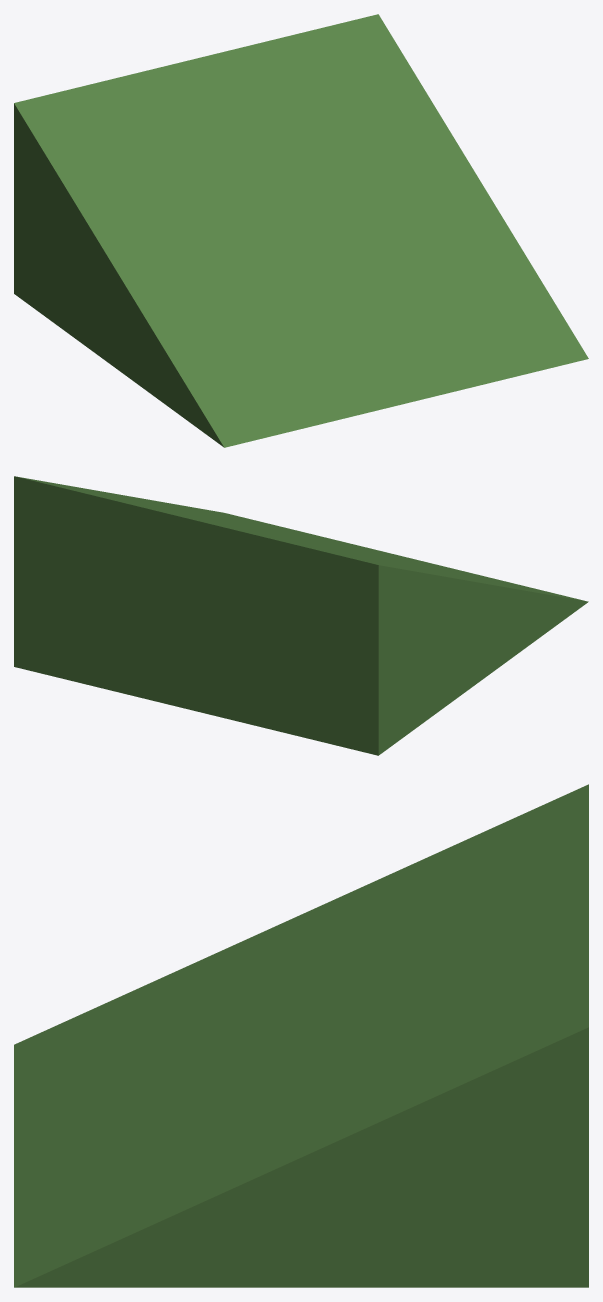
Rendered from terrain-grass-outer-corner.lod0.glb.
3 views of the same model, one above another, from view 1: azimuth 30°, elevation 25°; view 2: azimuth 150°, elevation 25°; view 3: azimuth 270°, elevation 25° (orthographic). The views are drawn at different scales.
Parts seen in each view (by area): view 1: terrain-grass-outer-corner__body; view 2: terrain-grass-outer-corner__body; view 3: terrain-grass-outer-corner__body.
Part boxes in pixels (x1,y1,x2,y2): terrain-grass-outer-corner__body: (14, 14, 588, 447); terrain-grass-outer-corner__body: (14, 476, 588, 755); terrain-grass-outer-corner__body: (14, 784, 588, 1287).
Size of the model in its own units: 2 by 1 by 2.
